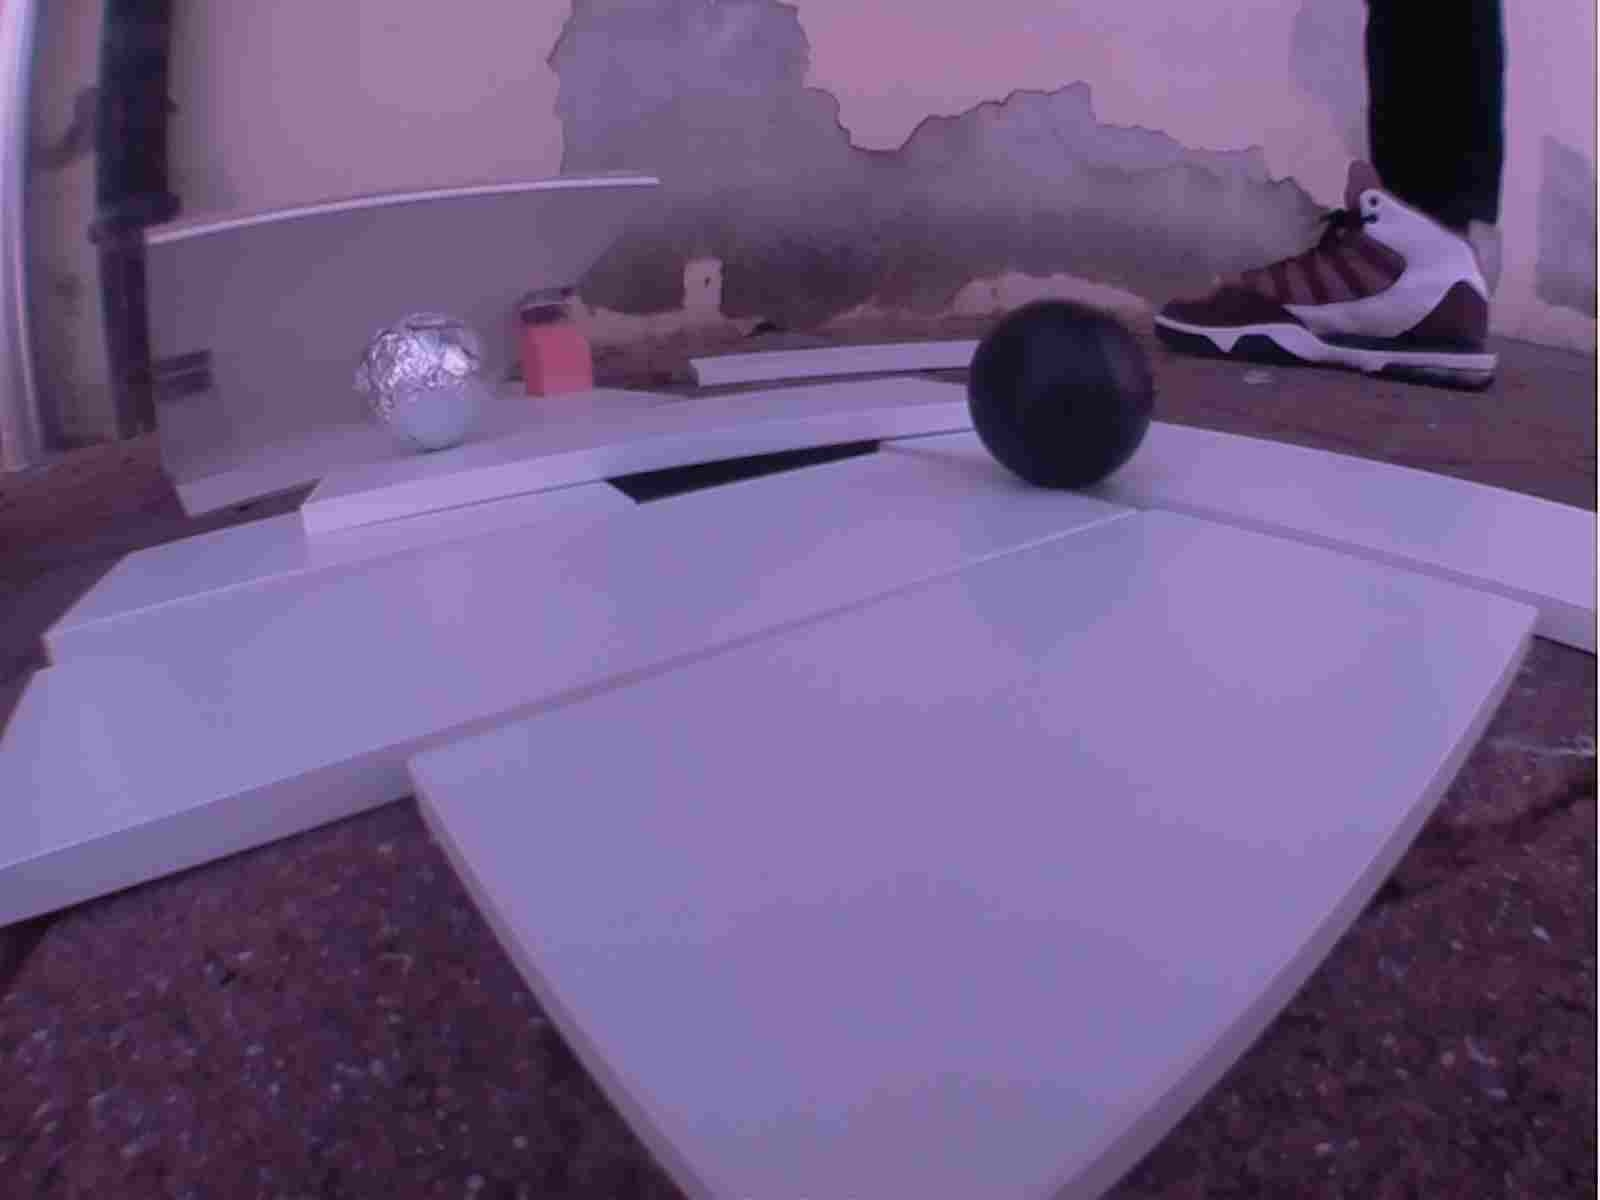bianca: (350, 304, 504, 464)
nera: (968, 296, 1158, 487)
